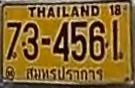1: (112, 20, 120, 60)
3: (21, 22, 38, 59)
4: (52, 21, 68, 60)
5: (70, 21, 86, 60)
6: (89, 20, 104, 60)
7: (6, 21, 21, 58)
SPK: (24, 65, 103, 82)
